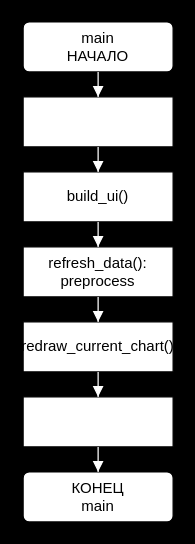
Some shapes in this 195 by 544 pixel diagram are drawn without their labels. Here are the shapes that lost their labels. From the top down, the centre of each, then its label:
At point (97, 121): "df_raw = load_dataset()".
At point (97, 421): "root.mainloop()".
